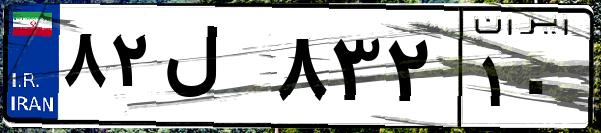0: (525, 38, 570, 115)
1: (475, 38, 525, 113)
2: (385, 28, 445, 110), (110, 28, 158, 98)
3: (330, 28, 385, 110)
8: (270, 28, 330, 110), (57, 26, 110, 100)
ل: (158, 20, 270, 120)
